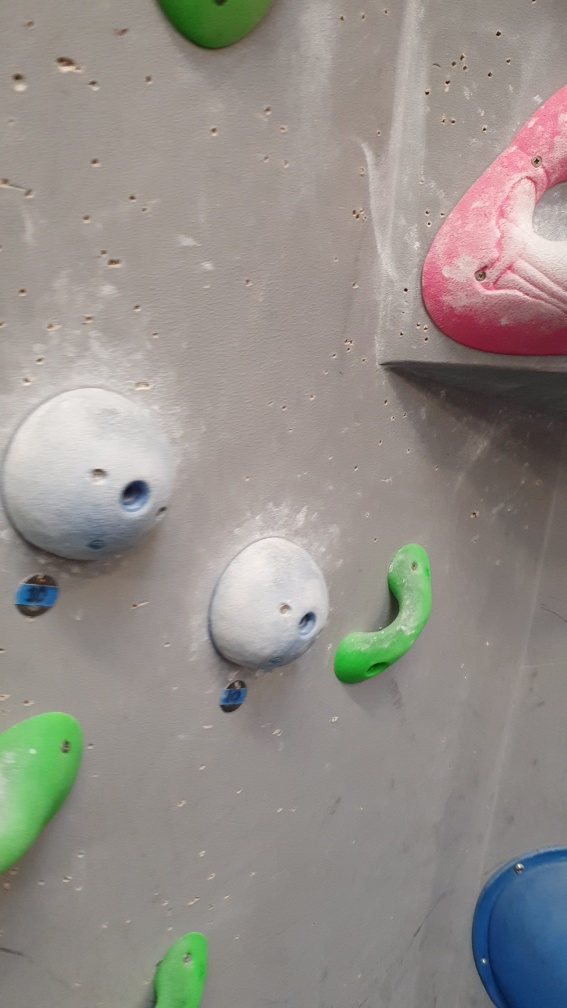Hand Start: (13, 569, 59, 620), (212, 676, 253, 714)
Pocket: (422, 80, 567, 359)
Sloper: (4, 380, 180, 570), (213, 531, 323, 671)
